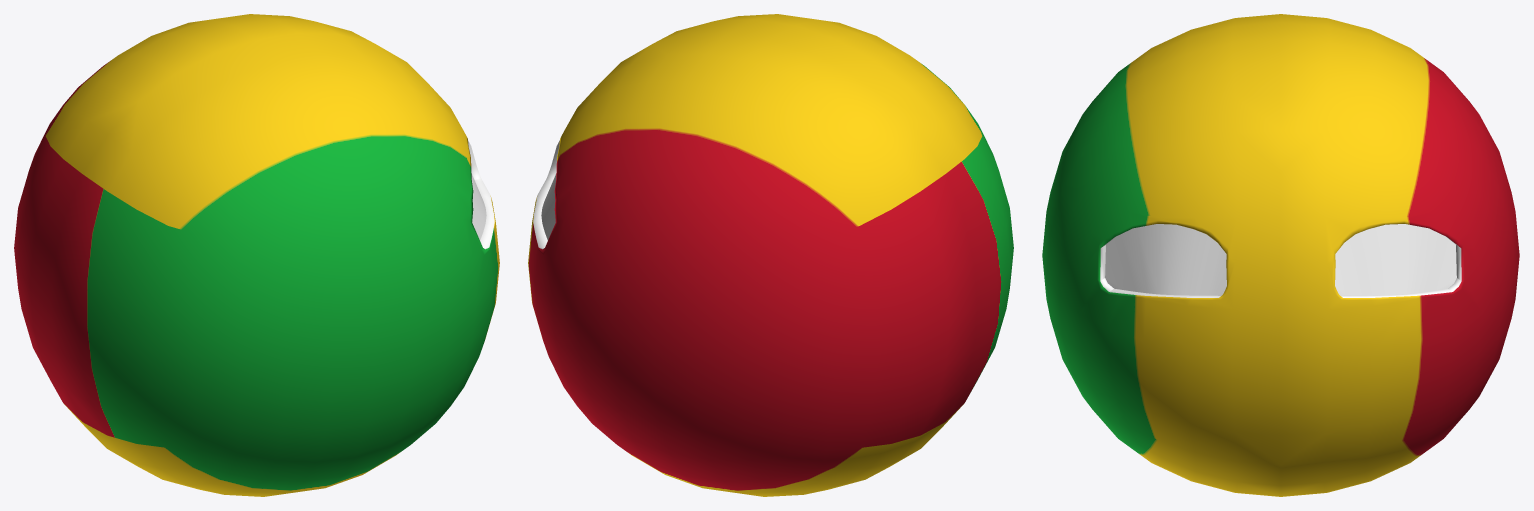
3 views of the same model, side by side, from view 1: azimuth 30°, elevation 25°; view 2: azimuth 150°, elevation 25°; view 3: azimuth 270°, elevation 25° (orthographic).
Parts seen in each view (by area): view 1: Cube; view 2: Cube; view 3: Cube.
Boxes of the visible parts, bbox=[...] form: Cube: bbox=[14, 14, 499, 496]; Cube: bbox=[528, 14, 1013, 496]; Cube: bbox=[1042, 14, 1519, 496].
Bounding box in the file's own units: 168 × 168 × 168.
